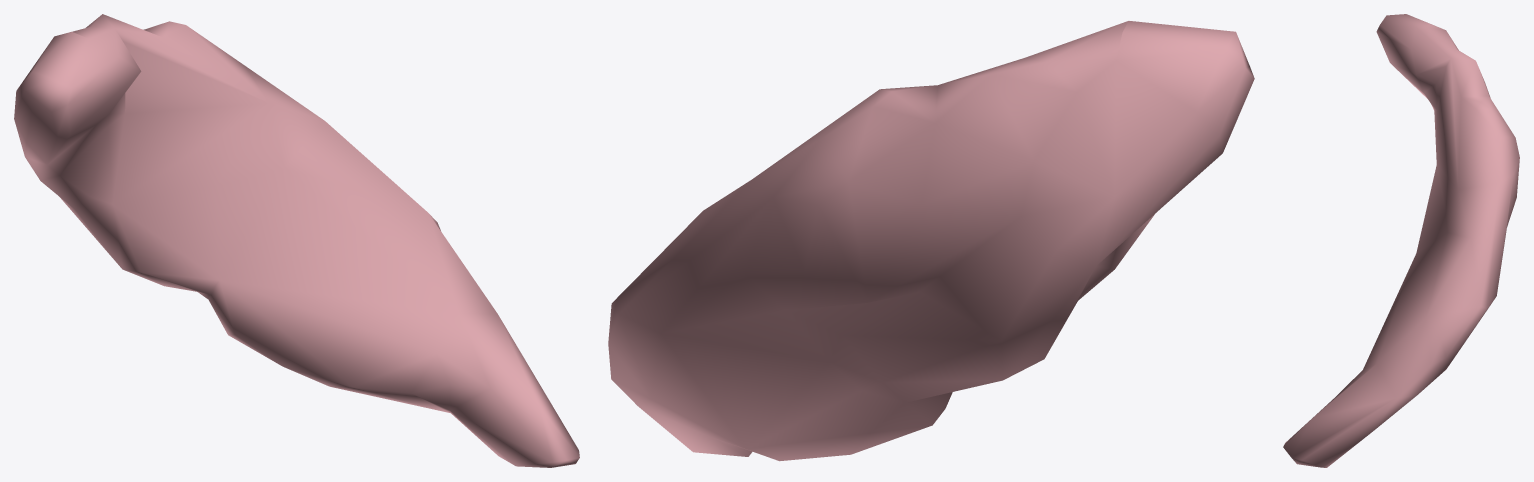
The model's file is visceras-seminal-gland-r.glb.
3 renders of one model, left to right at view 1: azimuth 30°, elevation 25°; view 2: azimuth 150°, elevation 25°; view 3: azimuth 270°, elevation 25°, orthographic. The views are drawn at different scales.
Visible parts, largest first — view 1: Seminal gland.r; view 2: Seminal gland.r; view 3: Seminal gland.r.
Boxes of the visible parts, x1,y1,x2,y2 form: Seminal gland.r: (14,14,579,467); Seminal gland.r: (608,21,1254,461); Seminal gland.r: (1283,14,1519,467).
Size of the model in its own units: 0.0329 by 0.0305 by 0.0209.
